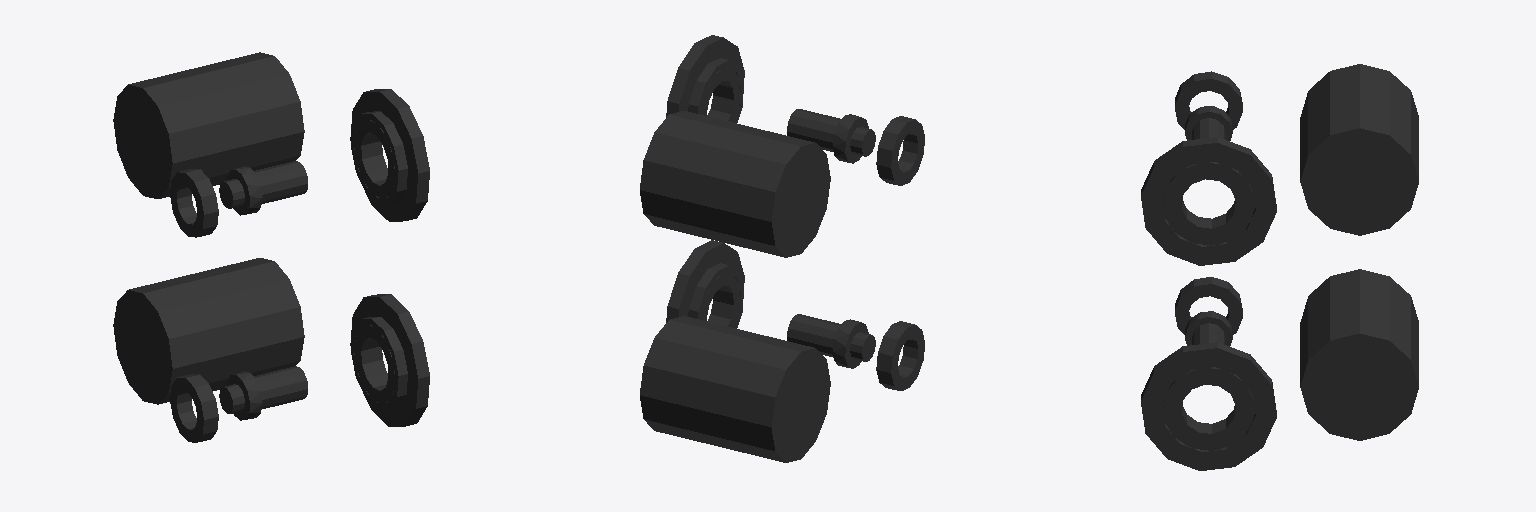
Rendered from Knee_1__1_mesh_2.obj.
The picture shows the model from 3 angles: view 1: azimuth 30°, elevation 25°; view 2: azimuth 150°, elevation 25°; view 3: azimuth 270°, elevation 25°; orthographic projection.
Bounding box in the file's own units: 0.0352 × 0.0528 × 0.0406.